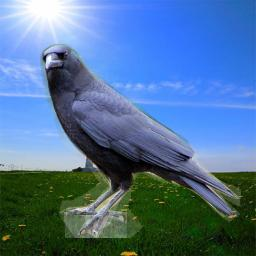Crow: (37, 44, 241, 238)
